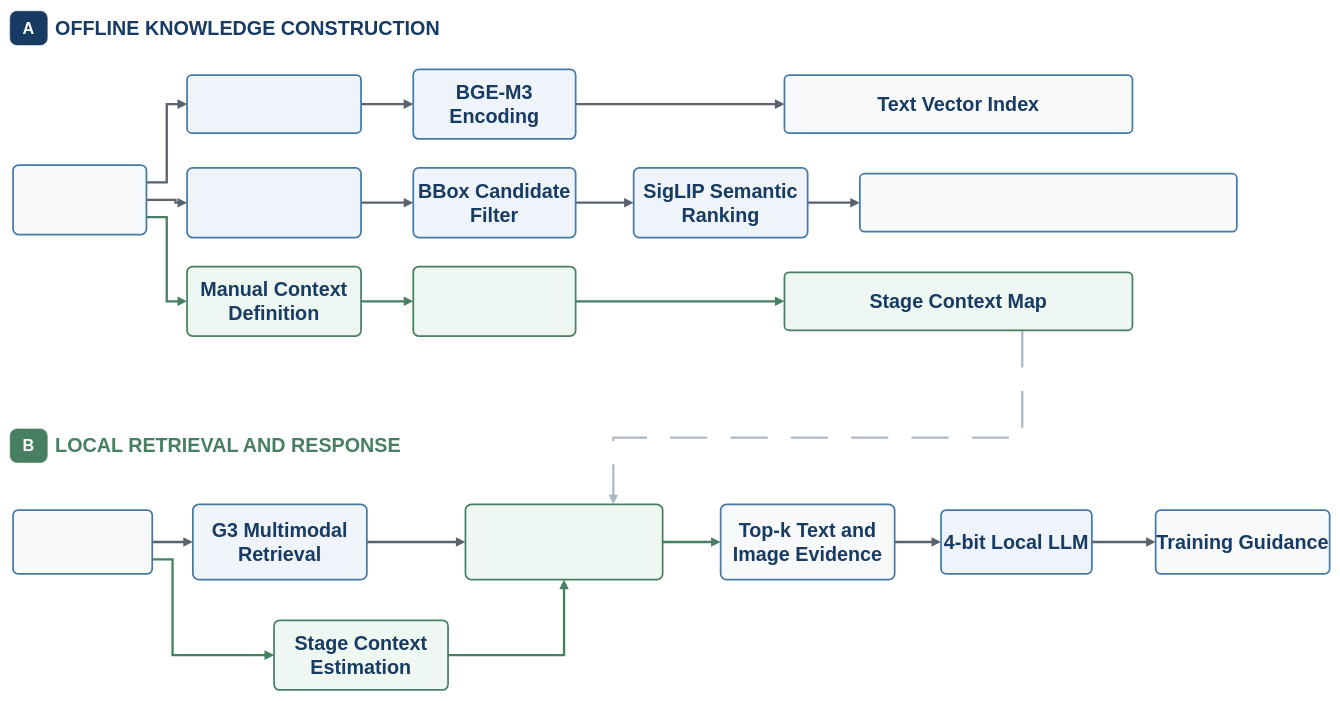
Image size: 1340x701. Some labels were removed from this diagram. Each missing label, with the centre of its shape:
G4 Context-Aware Re-ranking: point (563, 541)
Image Extraction: point (274, 202)
Image Index and Mapping: point (1048, 202)
Robot Training Manual PDF: point (79, 199)
Stage Profile Construction: point (494, 301)
Text Extraction: point (274, 104)
User Query: point (82, 541)
